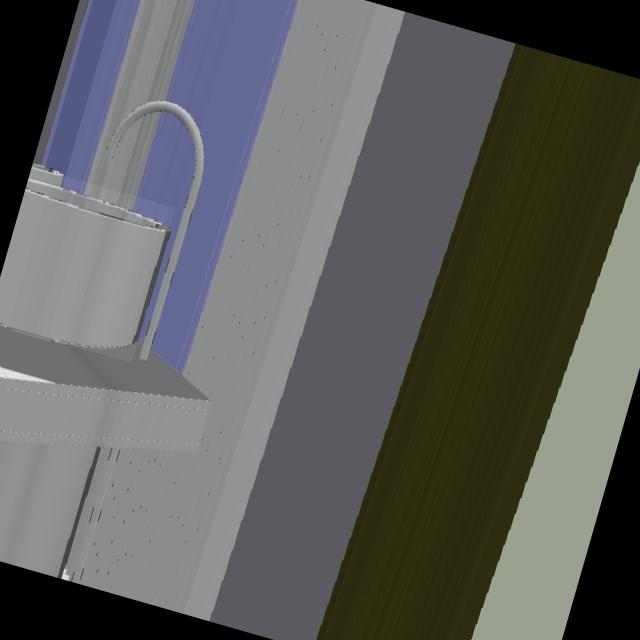washbasin: (0, 167, 169, 348)
